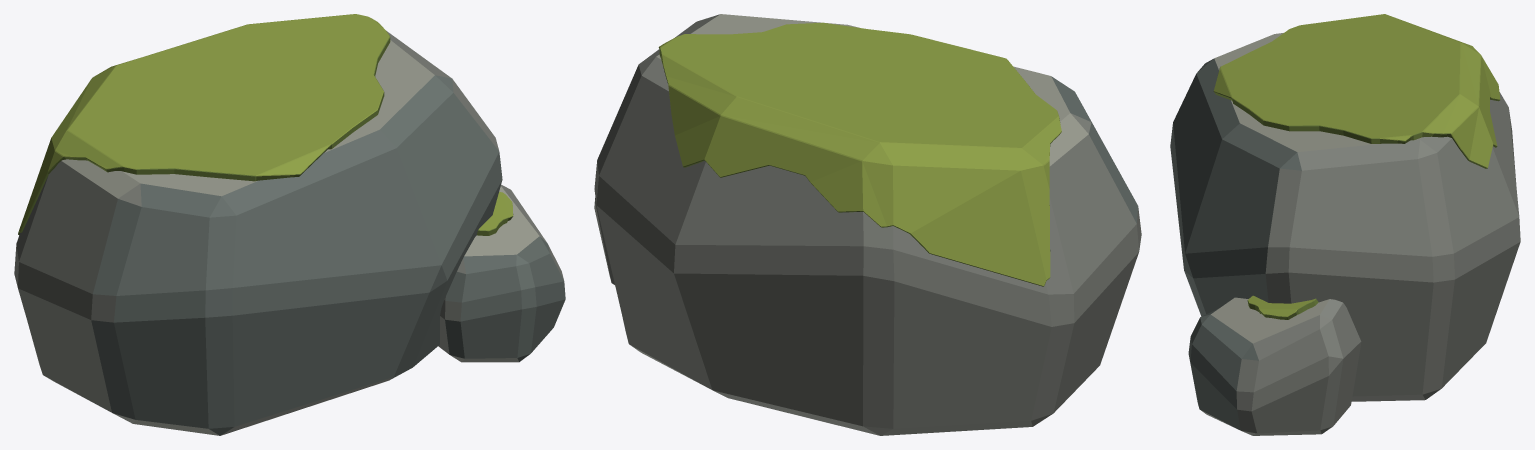
File: surface_boulder.glb
3 views of the same model, side by side, from view 1: azimuth 30°, elevation 25°; view 2: azimuth 150°, elevation 25°; view 3: azimuth 270°, elevation 25° (orthographic). The views are drawn at different scales.
Visible parts, largest first — view 1: Main fractured stone, Fitted roof moss, Broken shoulder, Small shoulder moss; view 2: Main fractured stone, Fitted roof moss; view 3: Main fractured stone, Fitted roof moss, Broken shoulder, Small shoulder moss.
Boxes of the visible parts, x1,y1,x2,y2 form: Main fractured stone: (14,31,502,435); Fitted roof moss: (18,14,390,234); Broken shoulder: (438,184,565,362); Small shoulder moss: (477,192,513,235); Main fractured stone: (594,14,1141,435); Fitted roof moss: (658,22,1061,286); Main fractured stone: (1170,33,1520,401); Fitted roof moss: (1213,14,1500,168); Broken shoulder: (1188,297,1361,435); Small shoulder moss: (1247,295,1318,319).
Bounding box in the file's own units: 2.39 × 1.33 × 1.62.
